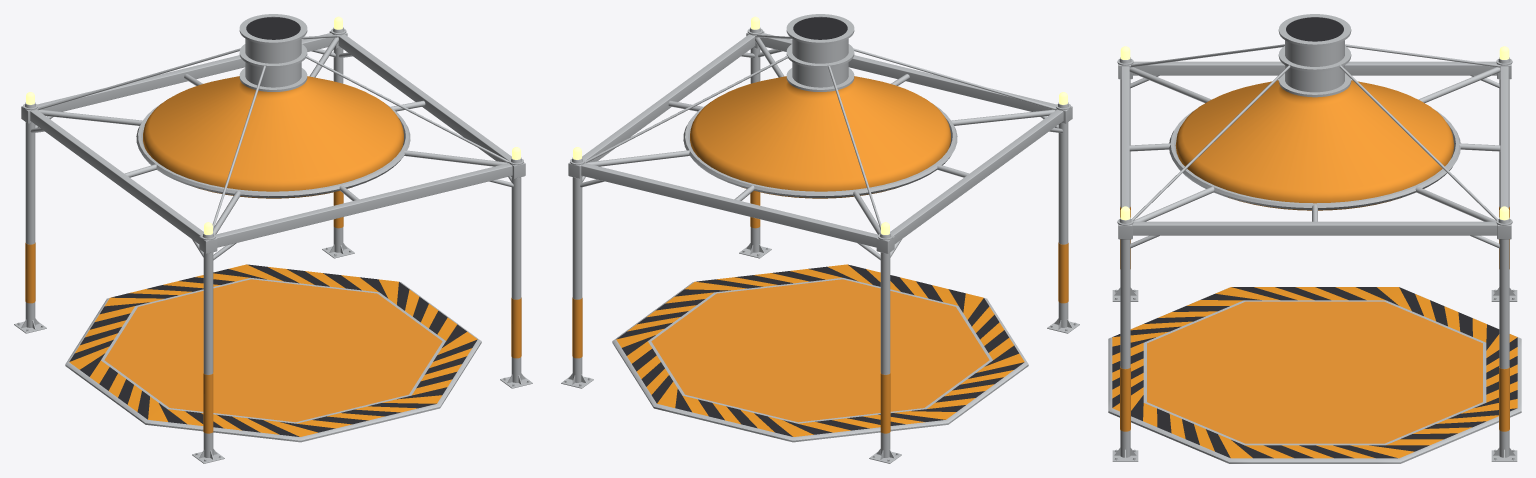
File: Goal.fbx
The picture shows the model from 3 angles, left to right: view 1: azimuth 30°, elevation 25°; view 2: azimuth 150°, elevation 25°; view 3: azimuth 270°, elevation 25°; orthographic projection. The views are drawn at different scales.
Parts seen in each view (by area): view 1: GoalStructure; view 2: GoalStructure; view 3: GoalStructure.
Part boxes in pixels (<box>): GoalStructure: <box>14,14,532,463</box>; GoalStructure: <box>561,14,1079,463</box>; GoalStructure: <box>1108,14,1521,463</box>.
Bounding box in the file's own units: 4.8 × 4.45 × 4.8.
